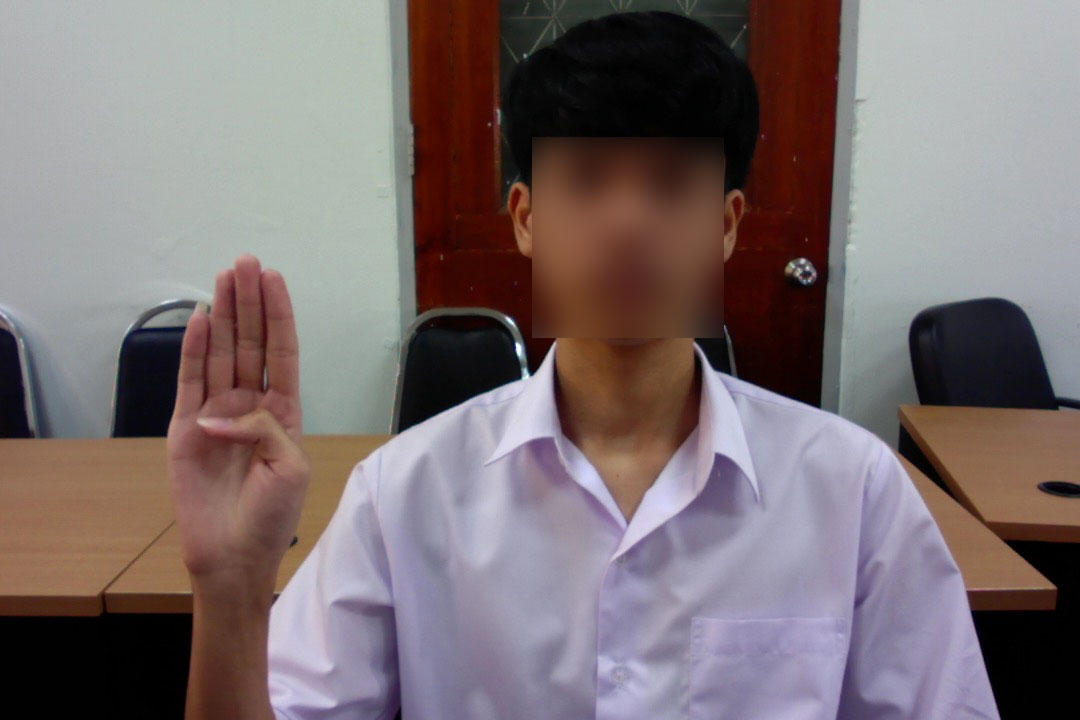bor: (163, 249, 317, 591)
